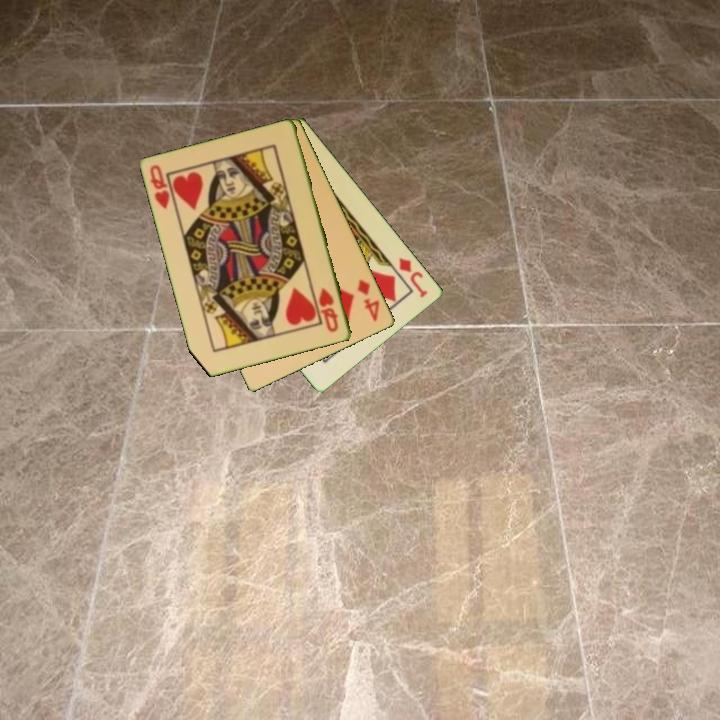4d: (353, 276, 383, 325)
Jd: (396, 254, 431, 301)
Qh: (315, 284, 341, 335), (147, 161, 173, 212)
